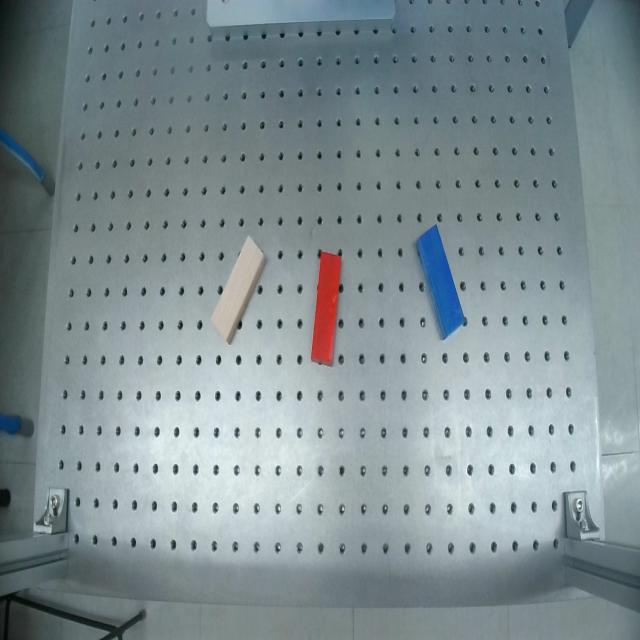blue: (411, 224, 469, 341)
red: (311, 252, 342, 367)
wood: (205, 236, 273, 346)
